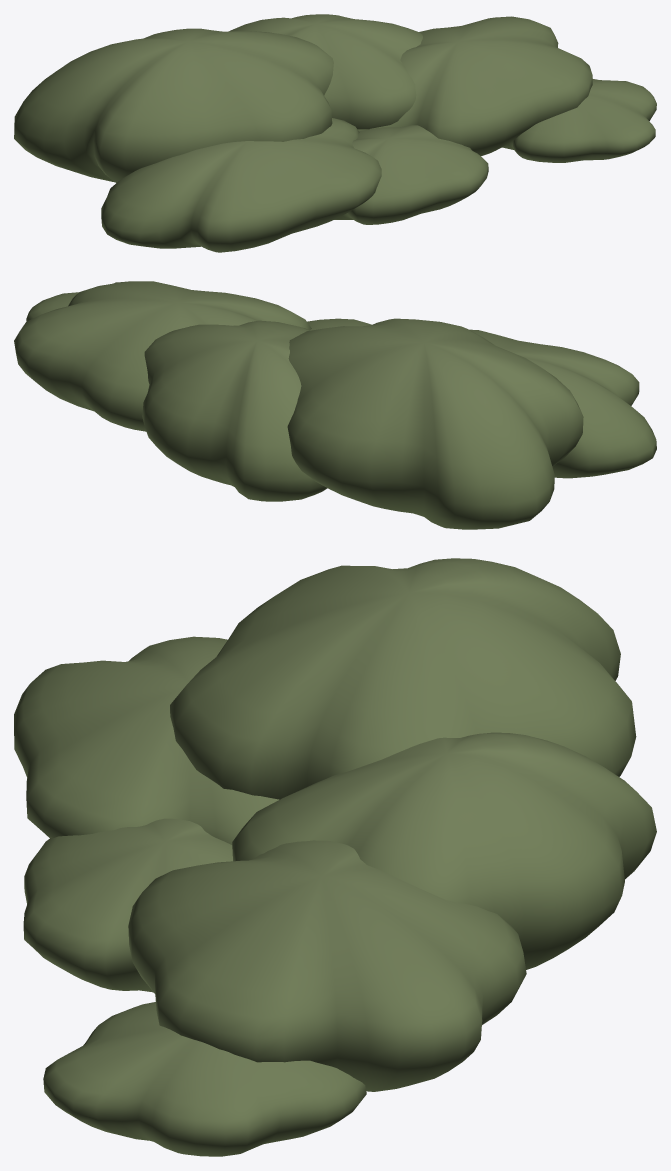
Rendered from shrub-b.glb.
3 renders of one model, top to bottom at view 1: azimuth 30°, elevation 25°; view 2: azimuth 150°, elevation 25°; view 3: azimuth 270°, elevation 25°, orthographic. The views are drawn at different scales.
Visible parts, largest first — view 1: shrub-b; view 2: shrub-b; view 3: shrub-b.
Boxes of the visible parts, box(x1,y1,x2,y2) form: shrub-b: box(14, 14, 656, 252); shrub-b: box(14, 281, 656, 529); shrub-b: box(14, 558, 656, 1156).
Size of the model in its own units: 1.9 by 0.5 by 1.1.
